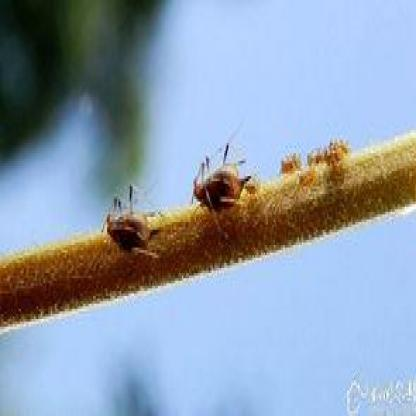aphid: (95, 176, 170, 262), (187, 132, 258, 220)
